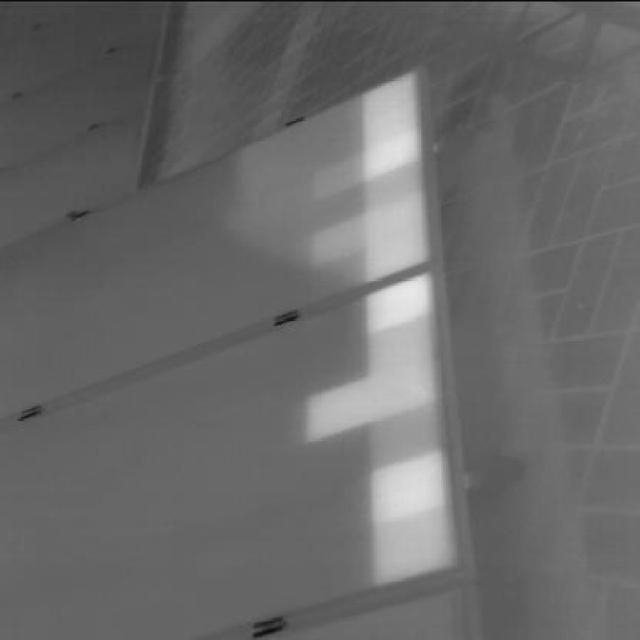hotspot: (370, 453, 447, 522), (362, 277, 435, 335), (365, 208, 429, 267), (370, 361, 438, 410), (306, 385, 365, 437), (362, 134, 426, 174)
